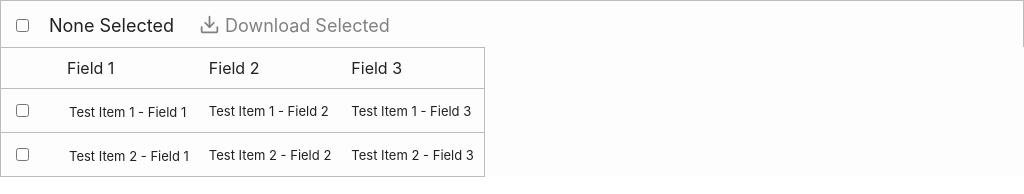
Test case: DownloadList › updates the number of selected items and when the user clicks an item
Step 1. Click the checkbox with class "item-checkbox" next to "Test Item 1 - Field 1" → {"x": 22, "y": 110}, box [16,104,29,117]
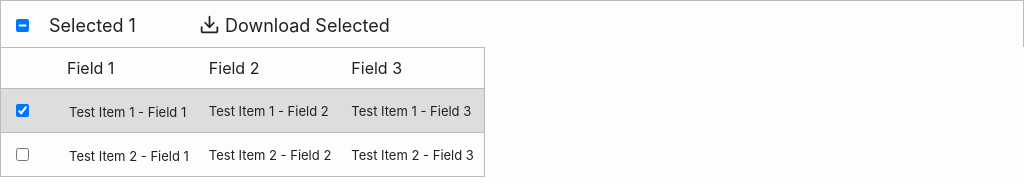
Check: the text "Selected 1" is shown, box [49,15,136,36]
